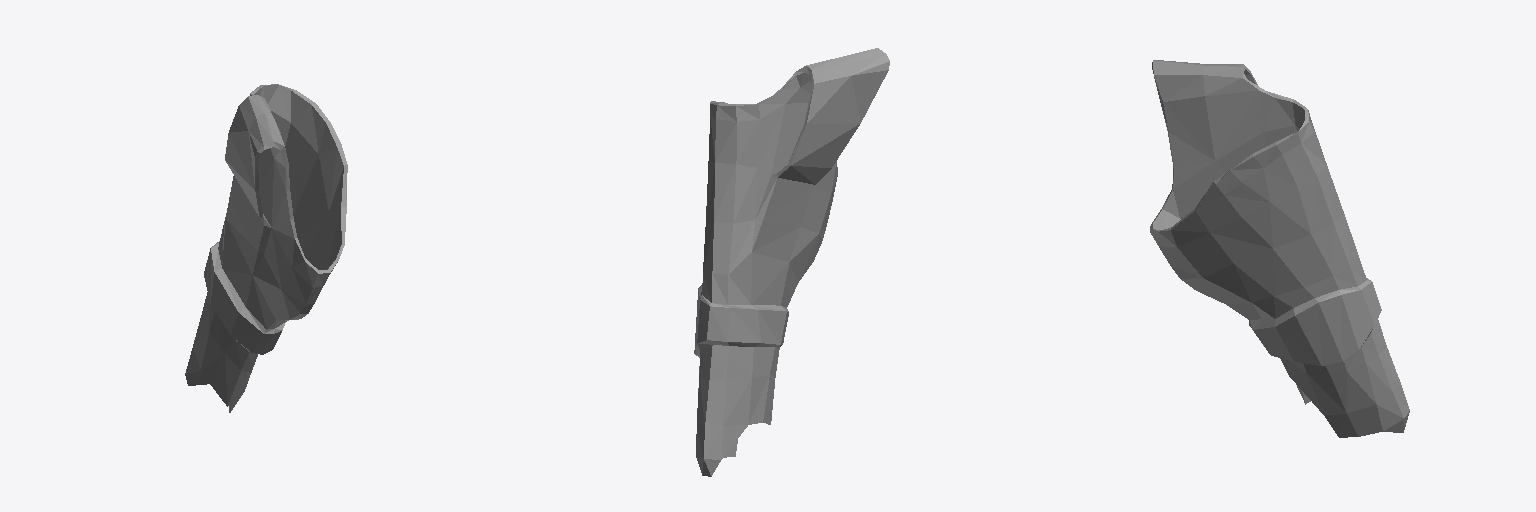
Rendered from belt.obj.
The picture shows the model from 3 angles: view 1: azimuth 30°, elevation 25°; view 2: azimuth 150°, elevation 25°; view 3: azimuth 270°, elevation 25°; orthographic projection.
Visible parts, largest first — view 1: e; view 2: e; view 3: e.
Part boxes in pixels (x1,y1,x2,y2): e: (185,84,347,412); e: (694,48,889,476); e: (1150,60,1409,437).
Size of the model in its own units: 15.94 by 44.98 by 29.41.